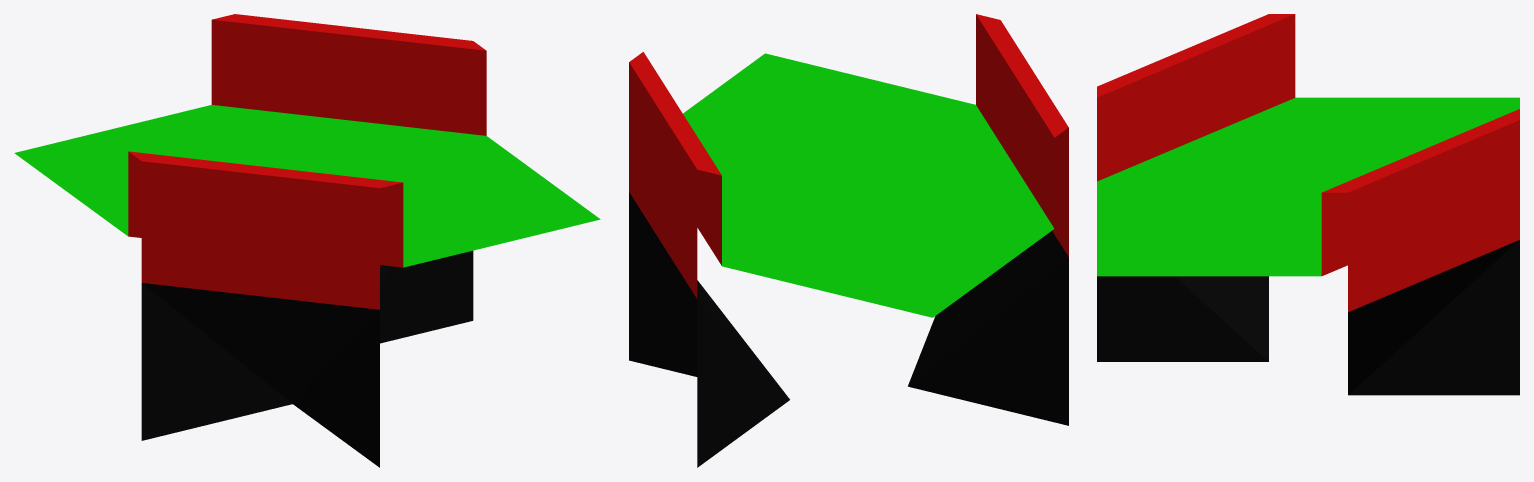
The picture shows the model from 3 angles, left to right: view 1: azimuth 30°, elevation 25°; view 2: azimuth 150°, elevation 25°; view 3: azimuth 270°, elevation 25°; orthographic projection. The views are drawn at different scales.
Visible parts, largest first — view 1: None_E_W_E_E_W_E_E_E_None; view 2: None_E_W_E_E_W_E_E_E_None; view 3: None_E_W_E_E_W_E_E_E_None.
Boxes of the visible parts, x1,y1,x2,y2 form: None_E_W_E_E_W_E_E_E_None: (14,14,600,467); None_E_W_E_E_W_E_E_E_None: (629,14,1068,467); None_E_W_E_E_W_E_E_E_None: (1097,14,1519,395).
Size of the model in its own units: 100 by 71.87 by 100.
